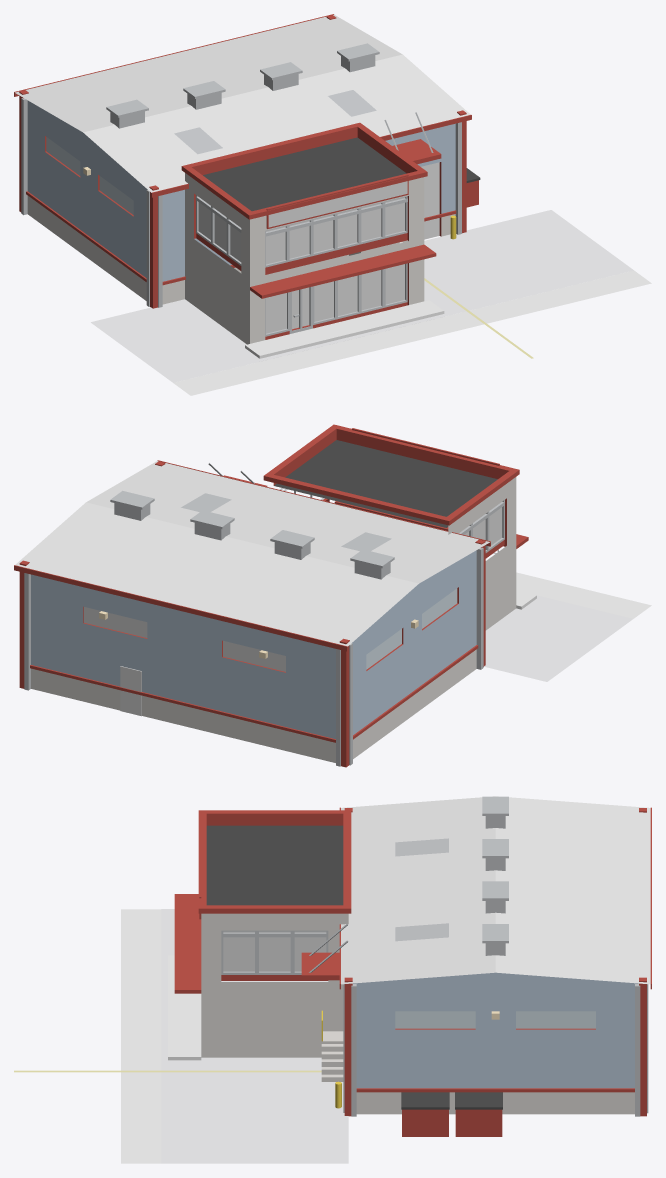
File: industrial_shed60.glb
3 renders of one model, top to bottom at view 1: azimuth 30°, elevation 25°; view 2: azimuth 150°, elevation 25°; view 3: azimuth 270°, elevation 25°, orthographic. The views are drawn at different scales.
Visible parts, largest first — view 1: industrial_shed60_Roof, industrial_shed60_Asphalt, industrial_shed60_Trim, industrial_shed60_Walls, industrial_shed60_Walls2, industrial_shed60_Site, industrial_shed60_WindowsLit, industrial_shed60_Roof2, industrial_shed60_Frames, industrial_shed60_Details, industrial_shed60_Brand, industrial_shed60_Doors (+1 smaller); view 2: industrial_shed60_Roof, industrial_shed60_Walls, industrial_shed60_Trim, industrial_shed60_Walls2, industrial_shed60_Roof2, industrial_shed60_Asphalt, industrial_shed60_Details, industrial_shed60_Site, industrial_shed60_WindowsLit, industrial_shed60_Frames, industrial_shed60_Glass, industrial_shed60_Doors; view 3: industrial_shed60_Roof, industrial_shed60_Walls, industrial_shed60_Asphalt, industrial_shed60_Walls2, industrial_shed60_Trim, industrial_shed60_Site, industrial_shed60_Roof2, industrial_shed60_Details, industrial_shed60_Frames, industrial_shed60_WindowsLit, industrial_shed60_Glass, industrial_shed60_Paint.
Boxes of the visible parts, x1,y1,x2,y2 form: industrial_shed60_Roof: (15, 14, 470, 192); industrial_shed60_Asphalt: (91, 210, 633, 382); industrial_shed60_Trim: (14, 14, 478, 339); industrial_shed60_Walls: (27, 100, 455, 281); industrial_shed60_Walls2: (27, 173, 455, 344); industrial_shed60_Site: (173, 270, 651, 395); industrial_shed60_WindowsLit: (198, 197, 404, 333); industrial_shed60_Roof2: (203, 137, 480, 211); industrial_shed60_Frames: (174, 90, 407, 336); industrial_shed60_Details: (21, 43, 461, 317); industrial_shed60_Brand: (268, 181, 407, 227); industrial_shed60_Doors: (421, 162, 439, 239); industrial_shed60_Roof: (15, 461, 489, 646); industrial_shed60_Walls: (31, 550, 476, 738); industrial_shed60_Trim: (14, 424, 528, 767); industrial_shed60_Walls2: (31, 477, 516, 762); industrial_shed60_Roof2: (274, 440, 497, 527); industrial_shed60_Asphalt: (484, 595, 632, 681); industrial_shed60_Details: (24, 463, 483, 766); industrial_shed60_Site: (516, 572, 651, 618); industrial_shed60_WindowsLit: (84, 507, 501, 671); industrial_shed60_Frames: (181, 488, 504, 553); industrial_shed60_Glass: (366, 588, 457, 669); industrial_shed60_Doors: (120, 666, 141, 716); industrial_shed60_Roof: (341, 796, 650, 984); industrial_shed60_Walls: (353, 972, 638, 1088); industrial_shed60_Asphalt: (161, 909, 348, 1163); industrial_shed60_Walls2: (201, 913, 634, 1114); industrial_shed60_Trim: (174, 807, 651, 1136); industrial_shed60_Site: (121, 909, 201, 1163); industrial_shed60_Roof2: (206, 825, 502, 1109); industrial_shed60_Details: (309, 796, 648, 1116); industrial_shed60_Frames: (221, 838, 448, 974); industrial_shed60_WindowsLit: (223, 931, 326, 971); industrial_shed60_Glass: (395, 1011, 595, 1028); industrial_shed60_Paint: (14, 1070, 321, 1072).
Bounding box in the file's own units: 90 × 27.03 × 95.35.
